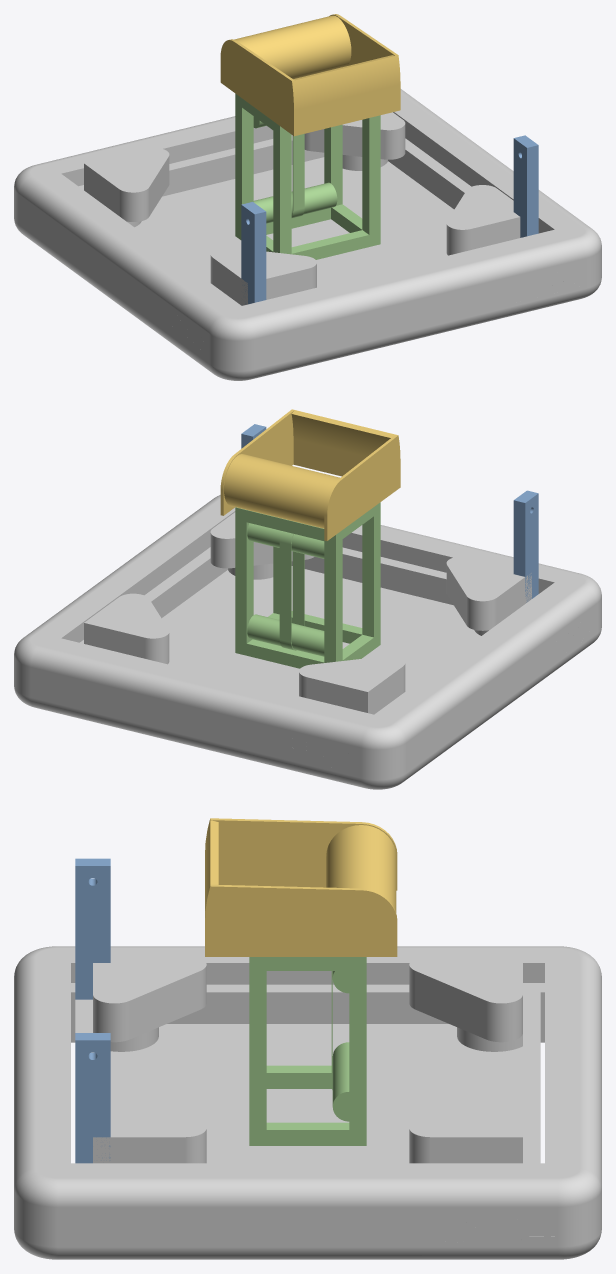
The picture shows the model from 3 angles, top to bottom: view 1: azimuth 30°, elevation 25°; view 2: azimuth 150°, elevation 25°; view 3: azimuth 270°, elevation 25°; orthographic projection. The views are drawn at different scales.
Parts seen in each view (by area): view 1: id20, Fixed Hood Shooter, Configurable Ball Tunnel, 2x1 (×2); view 2: id20, Configurable Ball Tunnel, Fixed Hood Shooter, 2x1; view 3: id20, Fixed Hood Shooter, Configurable Ball Tunnel, 2x1 (×2).
Boxes of the visible parts, box(x1,y1,x2,y2) form: id20: box(14, 89, 601, 380); Fixed Hood Shooter: box(220, 14, 400, 136); Configurable Ball Tunnel: box(235, 93, 380, 259); 2x1 (×2): box(241, 135, 538, 304); id20: box(14, 495, 601, 789); Configurable Ball Tunnel: box(235, 502, 380, 668); Fixed Hood Shooter: box(220, 409, 400, 540); 2x1: box(513, 490, 538, 602); id20: box(14, 946, 601, 1259); Fixed Hood Shooter: box(205, 818, 397, 956); Configurable Ball Tunnel: box(249, 957, 366, 1145); 2x1 (×2): box(75, 858, 110, 1163).
Size of the model in its own units: 0.8509 by 0.4637 by 0.8509.
